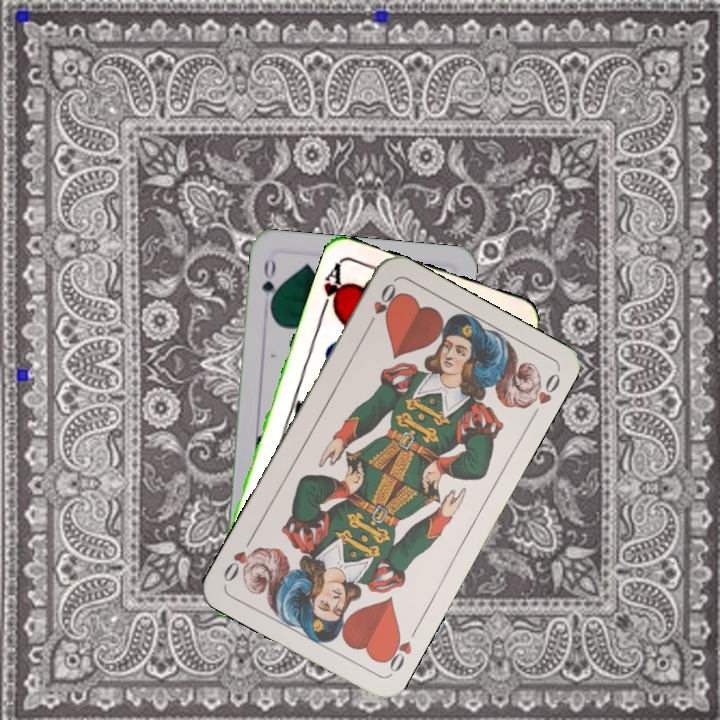GO: (257, 254, 281, 313)
HA: (317, 258, 348, 317)
HO: (379, 622, 421, 677), (363, 279, 401, 332)
